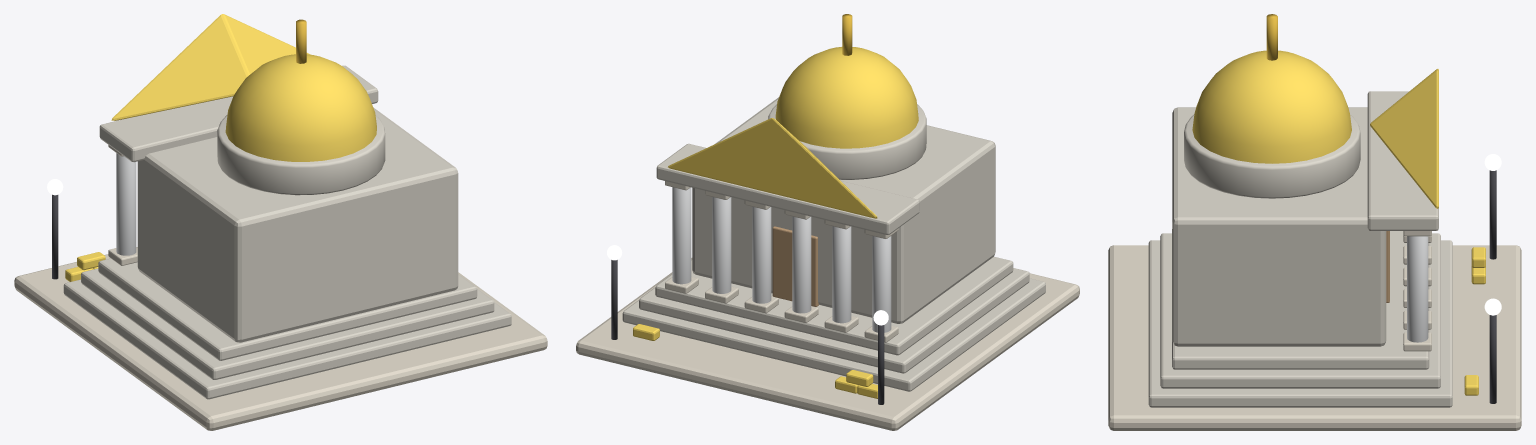
The model's file is treasury.glb.
The picture shows the model from 3 angles, left to right: view 1: azimuth 30°, elevation 25°; view 2: azimuth 150°, elevation 25°; view 3: azimuth 270°, elevation 25°; orthographic projection. The views are drawn at different scales.
Parts seen in each view (by area): view 1: Cube.004, Cube, Sphere, Cube.001, Cube.002, Cone, Cube.003, Cylinder.006, Cube.017, Cylinder, Cylinder.008; view 2: Cube.004, Cube, Sphere, Cone, Cube.001, Cube.003, Cube.002, Cube.017, Cylinder.006, Cube.018, Cylinder.003, Cylinder.001 (+6 smaller); view 3: Cube.004, Cube, Sphere, Cube.001, Cube.002, Cube.003, Cylinder.006, Cube.017, Cone, Cylinder.005, Cylinder.008, Cylinder.009 (+1 smaller).
Boxes of the visible parts, box(x1,y1,x2,y2) form: Cube.004: box(137, 107, 458, 342); Cube: box(14, 247, 547, 430); Sphere: box(225, 54, 376, 161); Cube.001: box(63, 279, 511, 399); Cube.002: box(81, 268, 494, 379); Cone: box(111, 14, 310, 120); Cube.003: box(98, 258, 477, 360); Cylinder.006: box(217, 114, 385, 195); Cube.017: box(99, 65, 378, 162); Cylinder: box(116, 153, 136, 255); Cylinder.008: box(52, 194, 58, 279); Cube.004: box(692, 97, 995, 323); Cube: box(576, 258, 1079, 430); Sphere: box(775, 47, 918, 148); Cone: box(668, 118, 877, 218); Cube.001: box(622, 278, 1045, 391); Cube.003: box(655, 256, 1013, 355); Cube.002: box(639, 268, 1029, 373); Cube.017: box(656, 143, 919, 234); Cylinder.006: box(768, 104, 926, 179); Cube.018: box(772, 226, 818, 306); Cylinder.003: box(752, 206, 771, 303); Cylinder.001: box(832, 226, 851, 323); Cube.004: box(1172, 107, 1386, 346); Cube: box(1108, 245, 1521, 430); Sphere: box(1192, 50, 1351, 163); Cube.001: box(1148, 240, 1452, 407); Cube.002: box(1160, 233, 1440, 388); Cube.003: box(1172, 229, 1429, 369); Cylinder.006: box(1184, 114, 1360, 198); Cube.017: box(1367, 91, 1438, 230); Cone: box(1370, 69, 1438, 208); Cylinder.005: box(1407, 236, 1428, 342); Cylinder.008: box(1489, 170, 1496, 259); Cylinder.009: box(1489, 315, 1496, 403).
Bounding box in the file's own units: 2.9 × 2.55 × 2.9.
